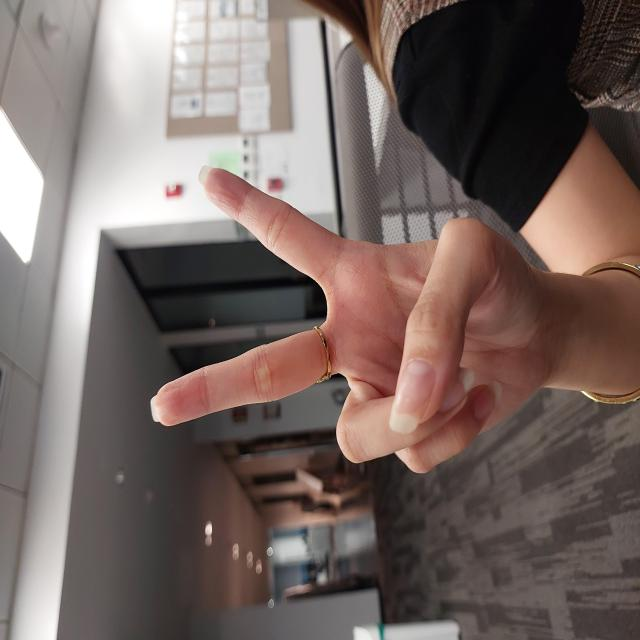V: (163, 149, 477, 563)
